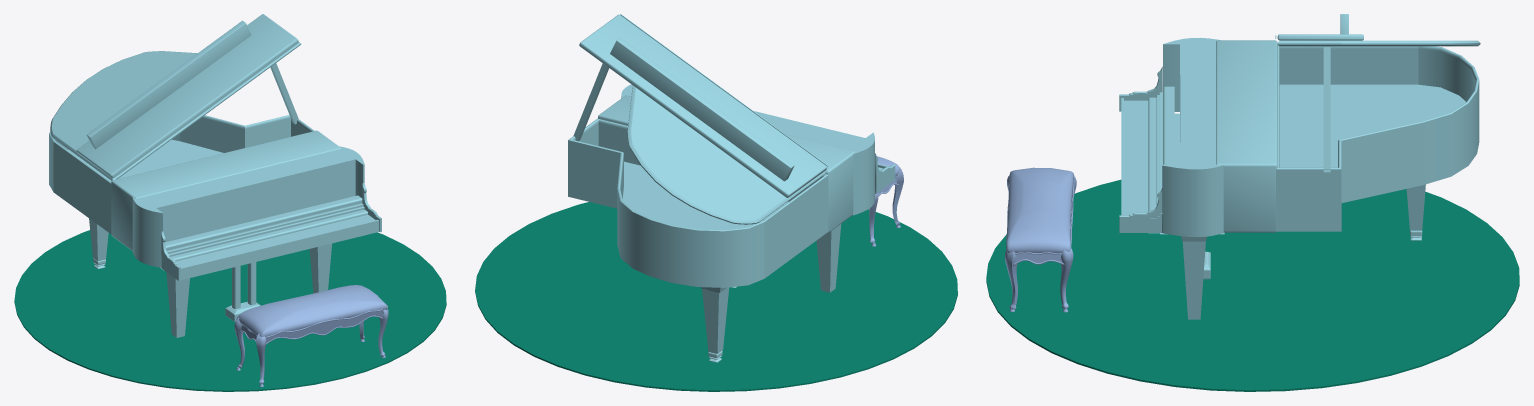
3 renders of one model, left to right at view 1: azimuth 30°, elevation 25°; view 2: azimuth 150°, elevation 25°; view 3: azimuth 270°, elevation 25°, orthographic. The views are drawn at different scales.
Parts seen in each view (by area): view 1: Cylinder01, ChamferBox03, Object04dd, ChamferBox01, Object05ff, Object01dd, Object03ss, Loft02, Line01, Loft05; view 2: Cylinder01, ChamferBox03, Object04dd, Object05ff, Loft02; view 3: Cylinder01, ChamferBox03, ChamferBox01, Object01dd, Object05ff, Object04dd, Loft02.
Boxes of the visible parts, box(x1,y1,x2,y2) form: Cylinder01: box(14, 230, 446, 391); ChamferBox03: box(49, 63, 381, 281); Object04dd: box(50, 14, 301, 180); ChamferBox01: box(237, 285, 388, 336); Object05ff: box(89, 218, 332, 337); Object01dd: box(175, 214, 375, 267); Object03ss: box(225, 262, 260, 321); Loft02: box(234, 309, 388, 386); Line01: box(266, 310, 383, 343); Loft05: box(265, 309, 383, 344); Cylinder01: box(475, 202, 957, 391); ChamferBox03: box(568, 63, 895, 287); Object04dd: box(579, 14, 827, 224); Object05ff: box(701, 224, 841, 358); Loft02: box(869, 169, 903, 246); Cylinder01: box(986, 179, 1519, 391); ChamferBox03: box(1119, 37, 1479, 237); ChamferBox01: box(1006, 167, 1074, 253); Object01dd: box(1124, 100, 1148, 215); Object05ff: box(1181, 184, 1425, 319); Object04dd: box(1275, 14, 1480, 46); Loft02: box(1005, 175, 1076, 312).
Bounding box in the file's own units: 2827 × 1728 × 2827.
